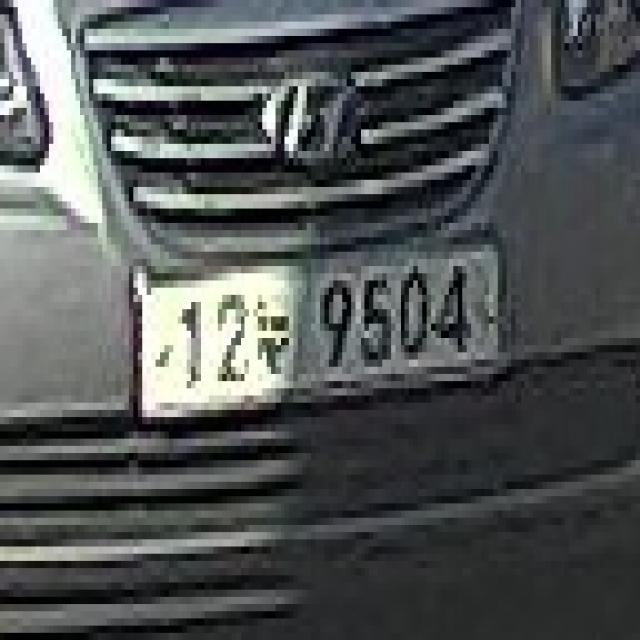0: (396, 259, 431, 374)
1: (174, 295, 214, 395)
2: (209, 288, 253, 402)
4: (431, 266, 480, 374)
5: (360, 266, 396, 388)
9: (316, 274, 356, 388)
license_plate: (129, 230, 511, 453)
nu: (253, 288, 298, 388)
